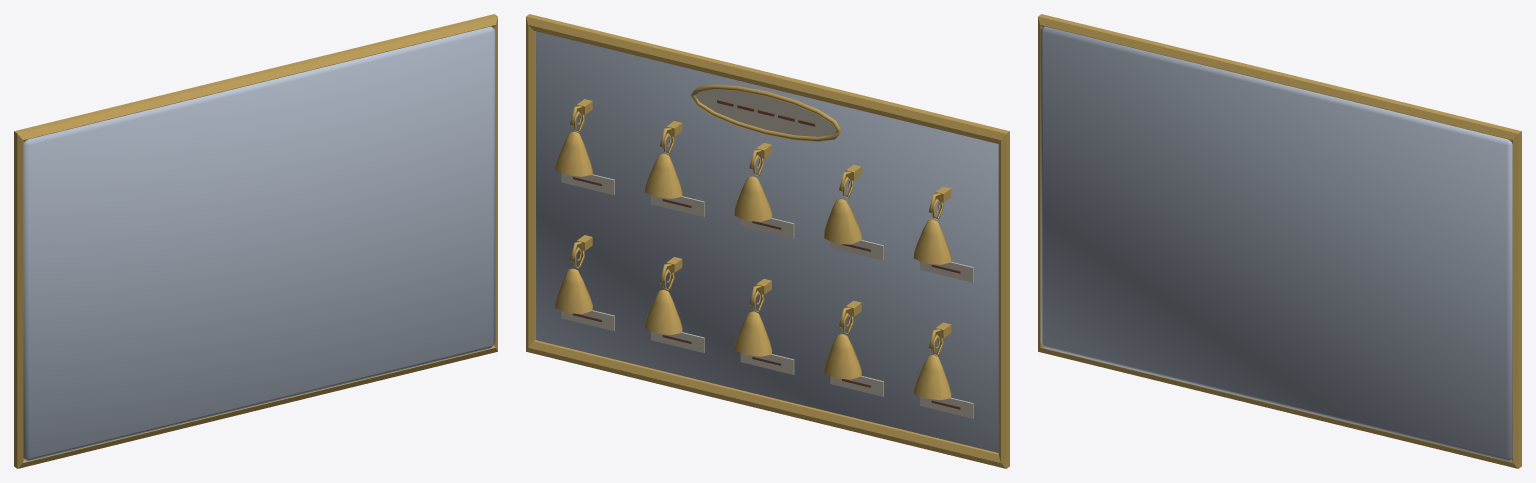
File: servants_bell_board.glb
3 views of the same model, side by side, from view 1: azimuth 30°, elevation 25°; view 2: azimuth 150°, elevation 25°; view 3: azimuth 330°, elevation 25° (orthographic).
Visible parts, largest first — view 1: servants_bell_board; view 2: servants_bell_board; view 3: servants_bell_board.
Part boxes in pixels (x1=…): servants_bell_board: x1=14, y1=14, x2=497, y2=468; servants_bell_board: x1=526, y1=14, x2=1009, y2=468; servants_bell_board: x1=1038, y1=14, x2=1521, y2=468.
Size of what is drawn, in the model's own units: 1.2 by 0.8 by 0.12.
